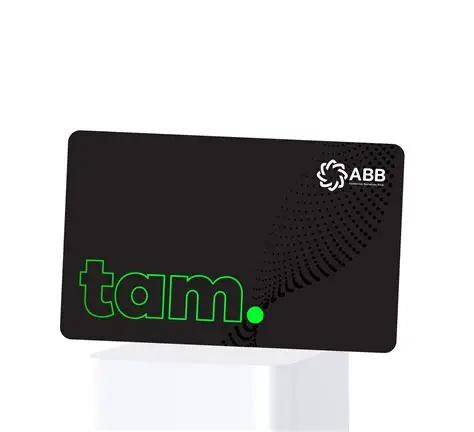ABB: (315, 158, 349, 192)
